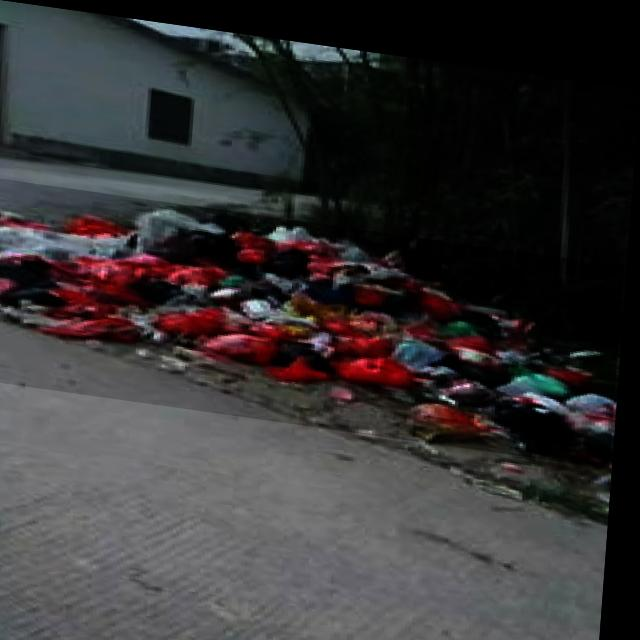garbage: (0, 178, 627, 450)
